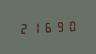nine: (54, 19, 65, 33)
one: (30, 20, 41, 34)
six: (42, 20, 53, 33)
two: (18, 21, 29, 34)
zero: (66, 19, 77, 32)
